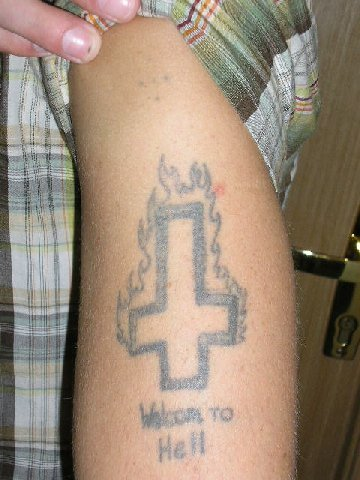tatu9_krest: (130, 203, 242, 392)
